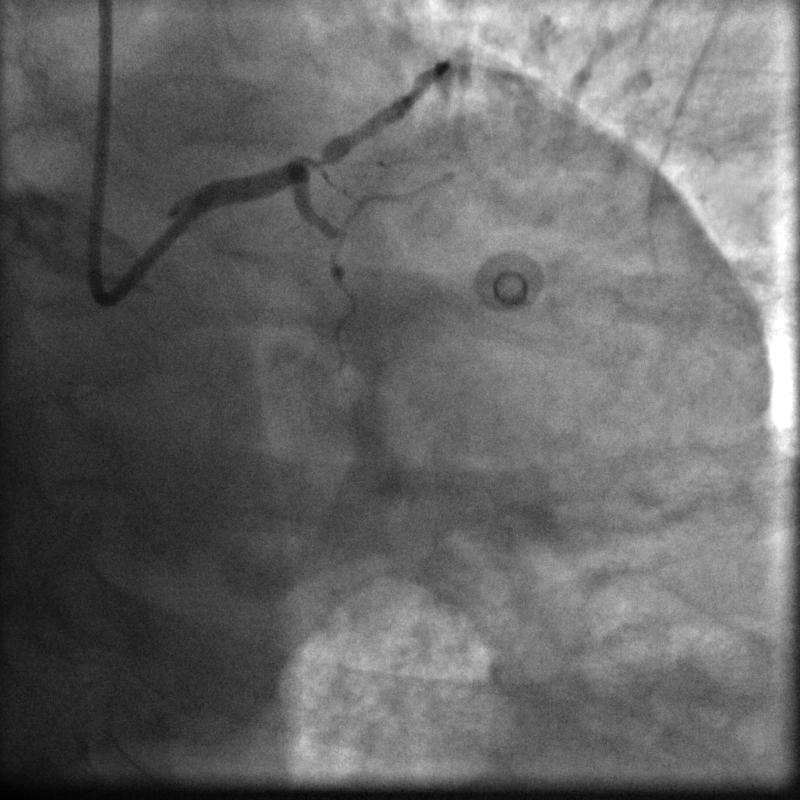Stenosis: (295, 143, 338, 178)
